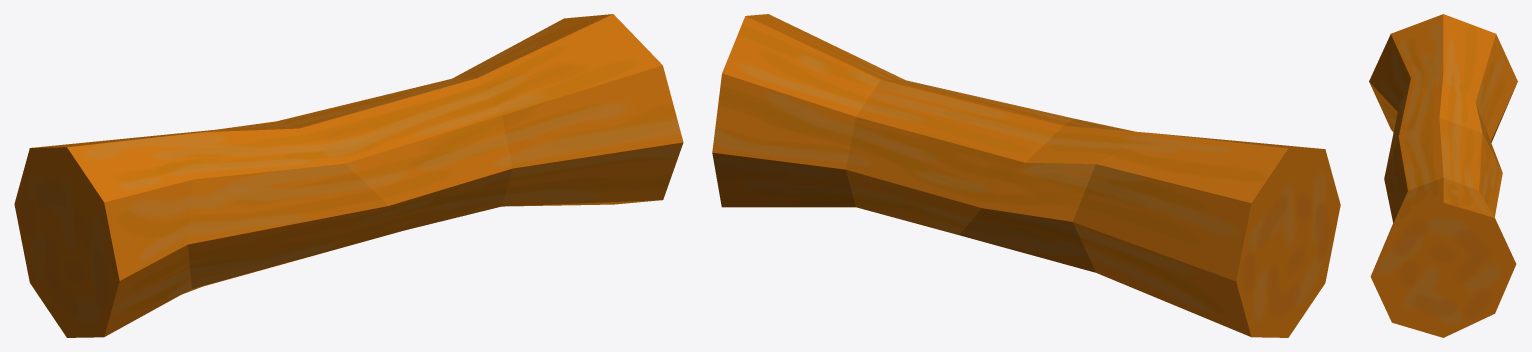
Rendered from wood.fbx.
3 views of the same model, side by side, from view 1: azimuth 30°, elevation 25°; view 2: azimuth 150°, elevation 25°; view 3: azimuth 270°, elevation 25° (orthographic). The views are drawn at different scales.
Visible parts, largest first — view 1: Cylinder; view 2: Cylinder; view 3: Cylinder.
Part boxes in pixels (x1=…): Cylinder: x1=14, y1=14, x2=683, y2=337; Cylinder: x1=712, y1=14, x2=1340, y2=337; Cylinder: x1=1369, y1=14, x2=1517, y2=337.
Size of the model in its own units: 620 by 200 by 200.
